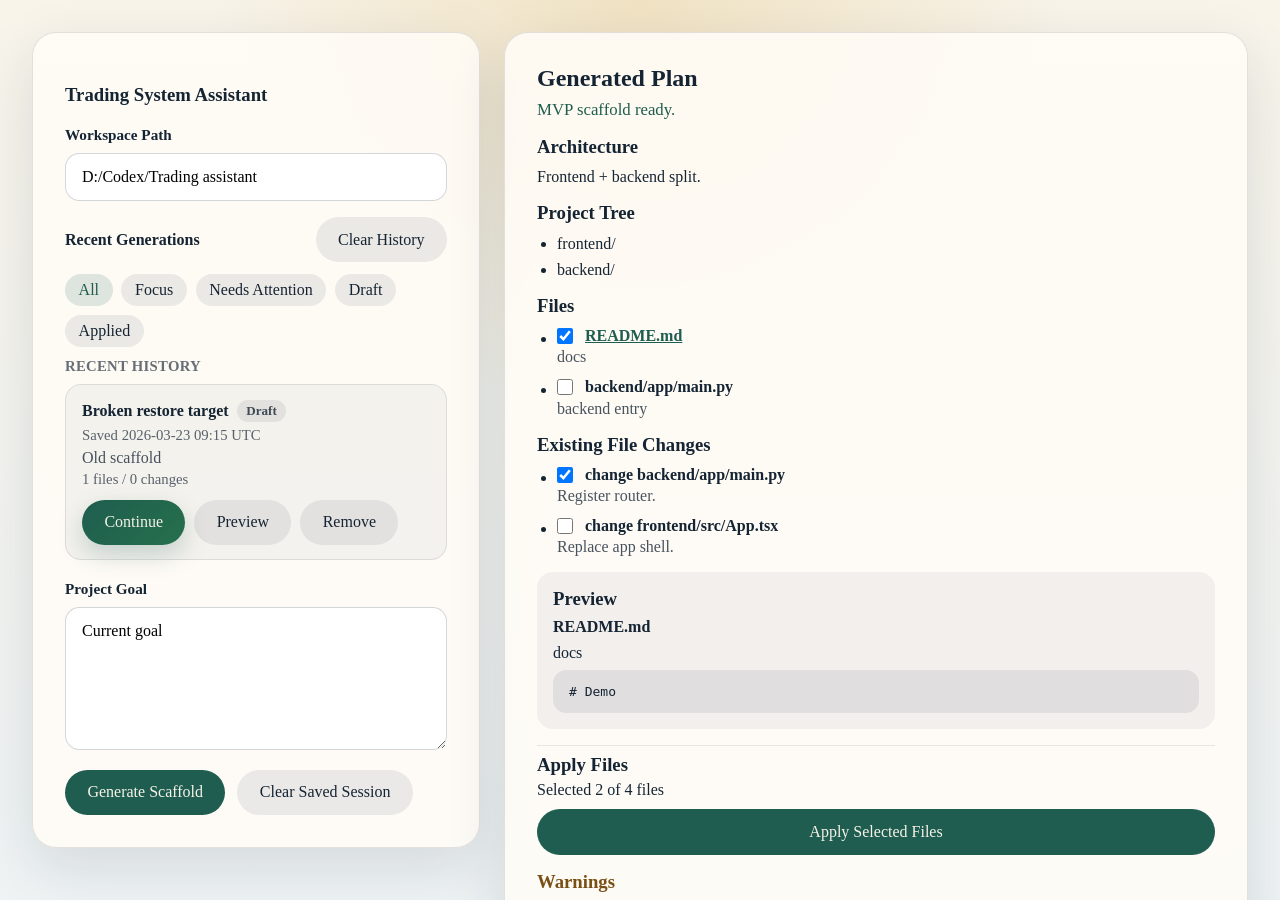
it: App › keeps the current artifact visible when restoring history fails
The image size is (1280, 900).
Expected: the text "MVP scaffold ready." is shown, [537,100,675,119]
Click the button with aria-label "continue broken restore target". click: [134, 522]
box: [82,500,186,545]
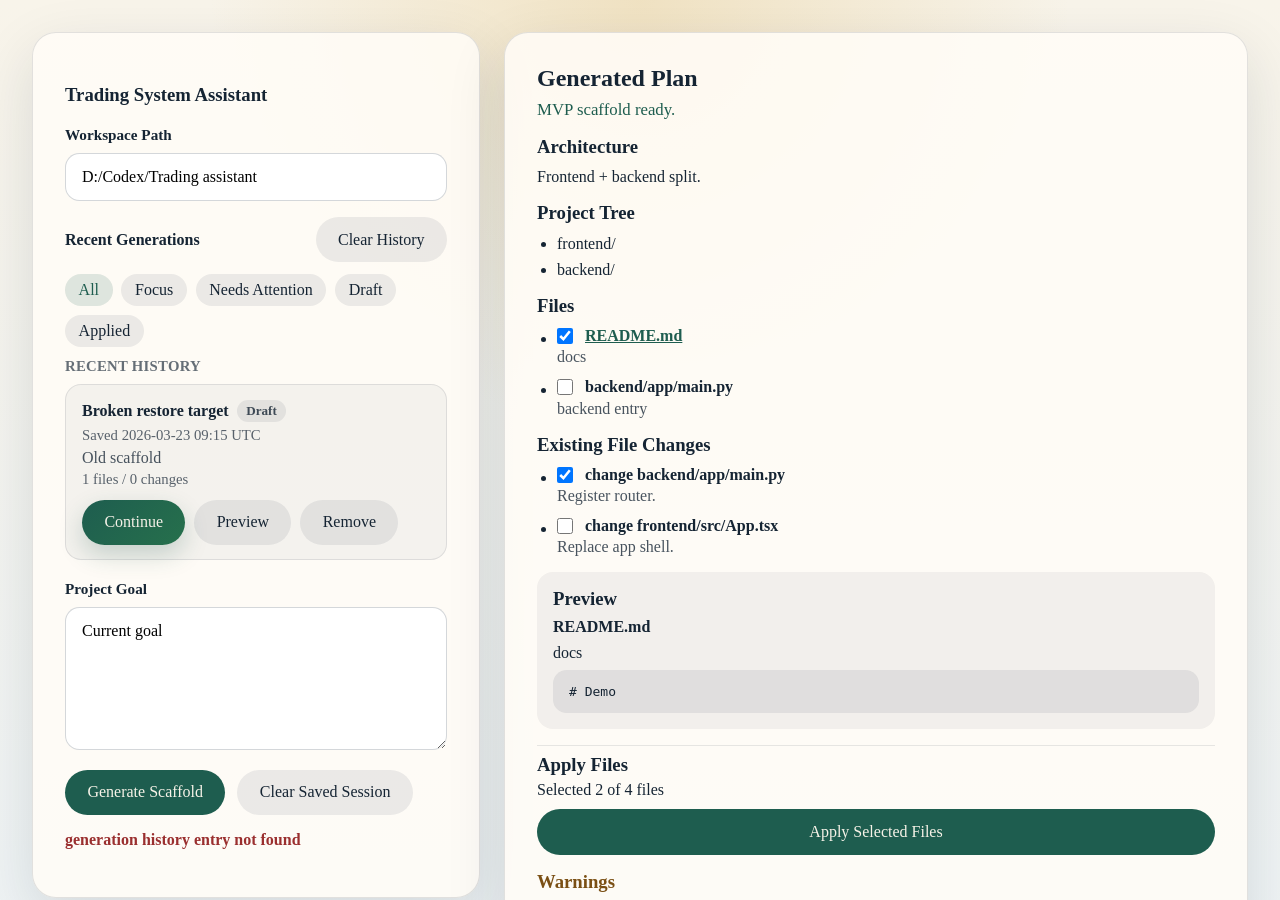
Expected: the text "MVP scaffold ready." is shown, [537,100,675,119]
Expected: the text "generation history entry not found" is shown, [65,831,301,848]
